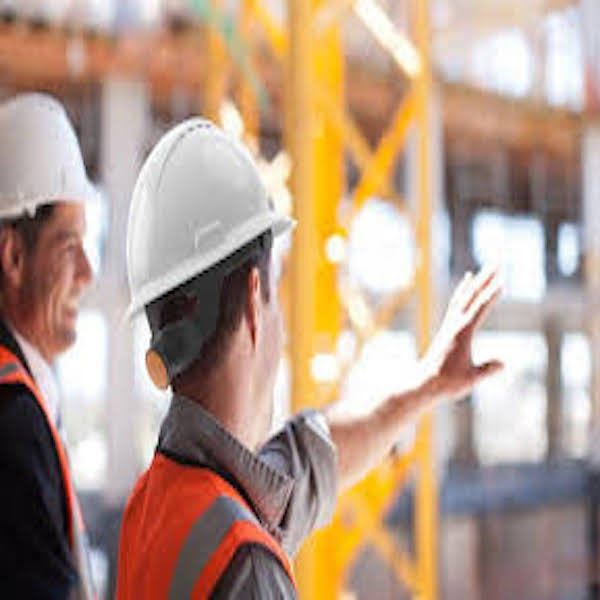helmet: (127, 115, 290, 299), (2, 94, 88, 222)
vest: (117, 462, 286, 600)
